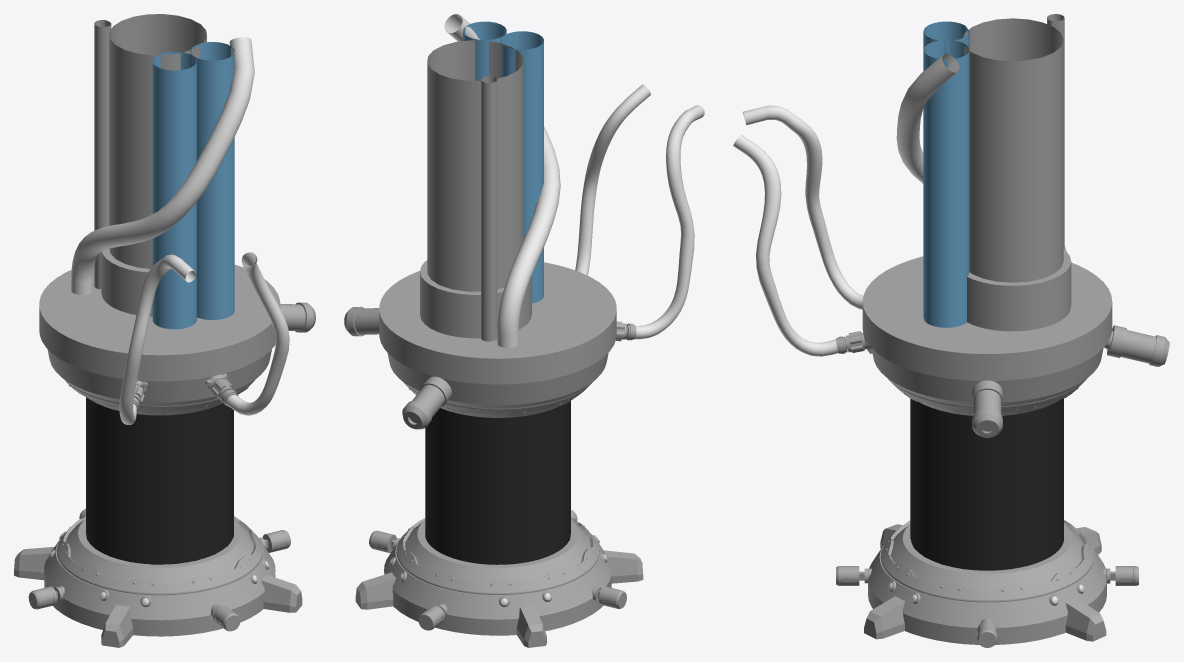
The model's file is Core.fbx.
3 views of the same model, side by side, from view 1: azimuth 30°, elevation 25°; view 2: azimuth 150°, elevation 25°; view 3: azimuth 270°, elevation 25° (orthographic). The views are drawn at different scales.
Visible parts, largest first — view 1: pasted__core; view 2: pasted__core; view 3: pasted__core.
Part boxes in pixels (bbox=[...]): pasted__core: bbox=[14, 14, 315, 647]; pasted__core: bbox=[344, 14, 704, 647]; pasted__core: bbox=[733, 14, 1169, 647].
Size of the model in its own units: 8.47 by 15.98 by 11.08.
